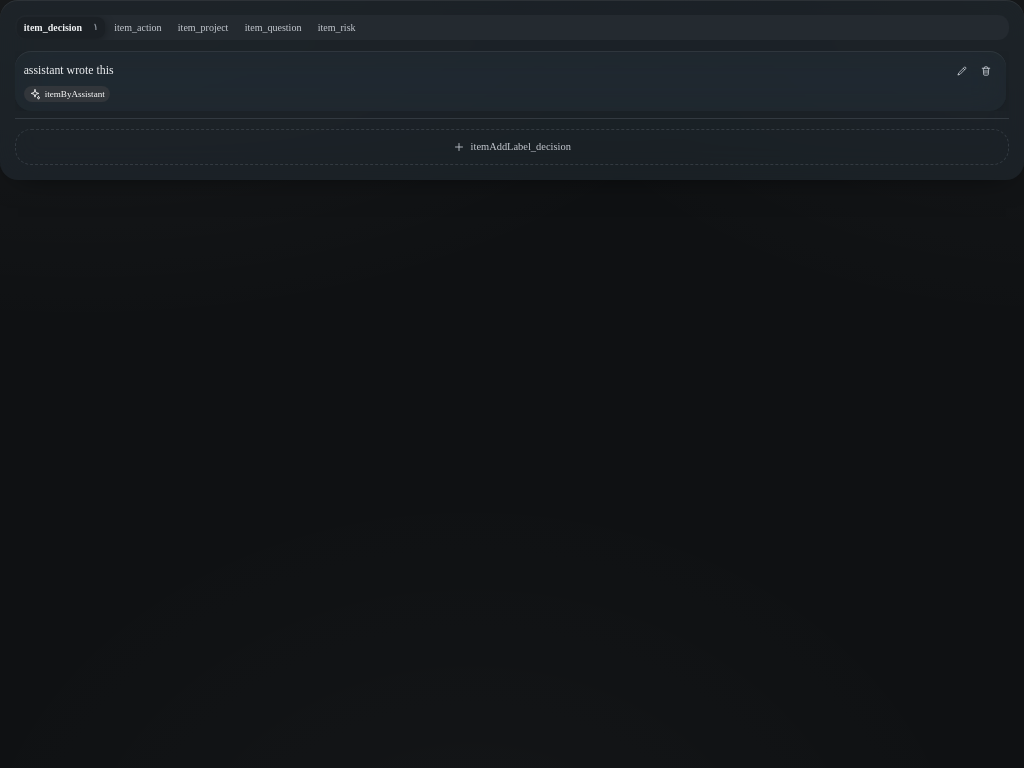
Test case: ItemsPanel › removes a row the assistant added — through the dialog, and only through it
The image size is (1024, 768).
Expected: the text "assistant wrote this" is shown, [24,63,114,77]
Click the button named "itemRemove": (986, 71) [975,60,997,82]
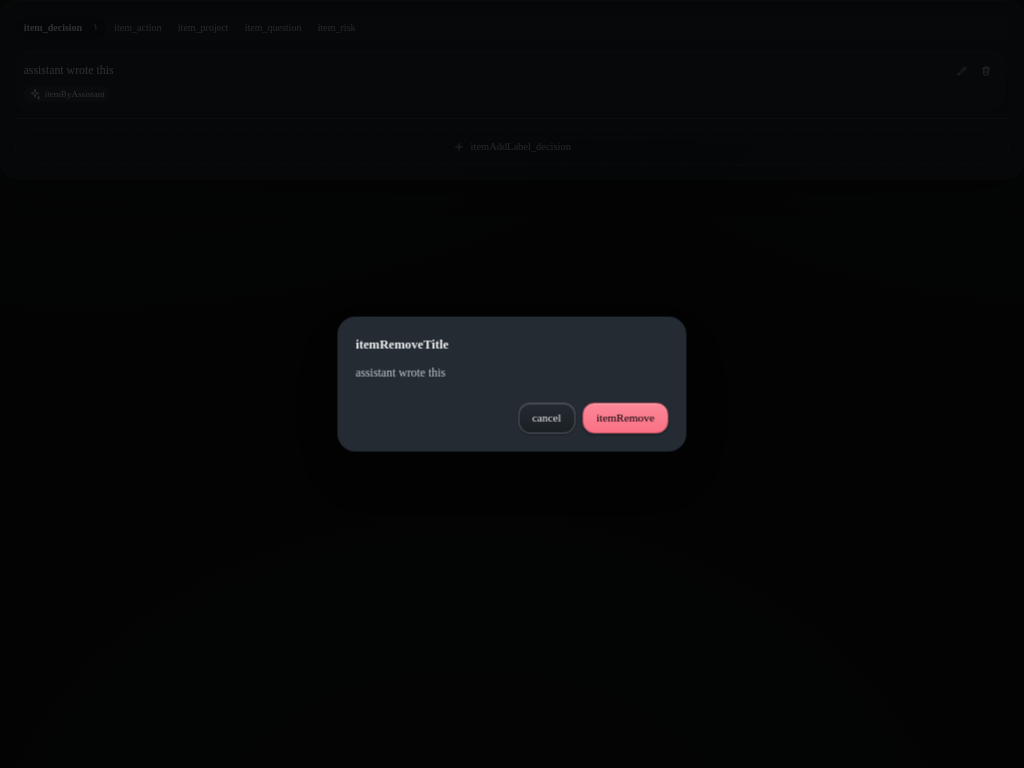
Click the button "itemRemove": (625, 418) [582,402,668,433]
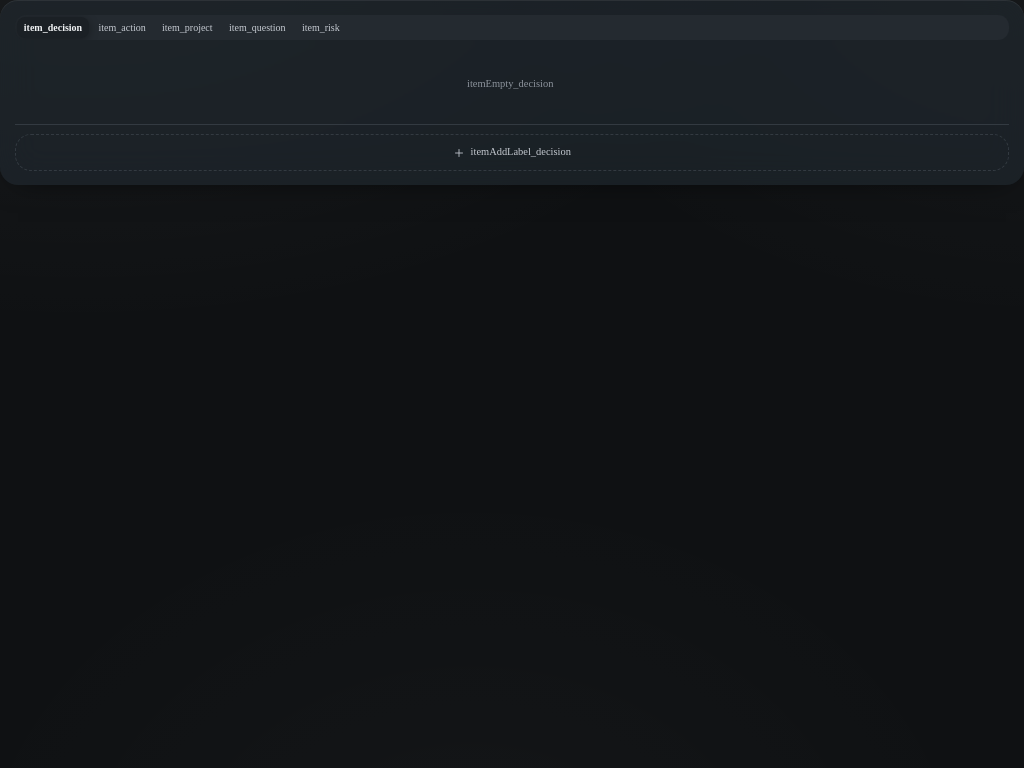
Now the text "assistant wrote this" is gone
